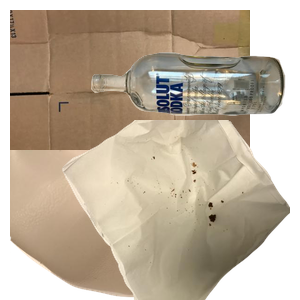cardboard: (10, 10, 250, 190)
glass: (88, 50, 300, 158)
plastic: (10, 150, 250, 300)
trash: (60, 120, 300, 300)
